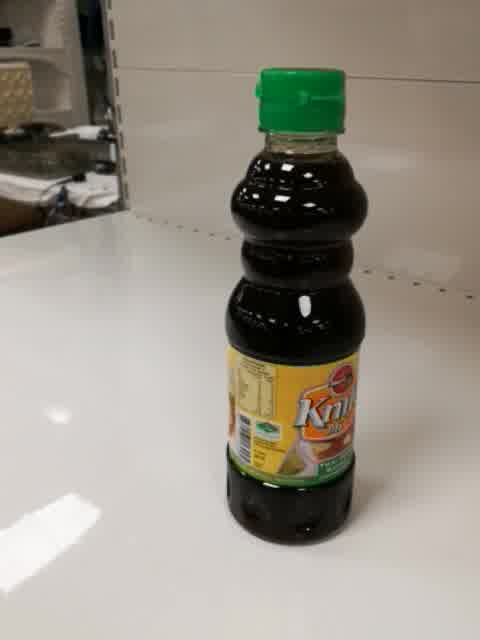cookingoil: (222, 66, 369, 548)
